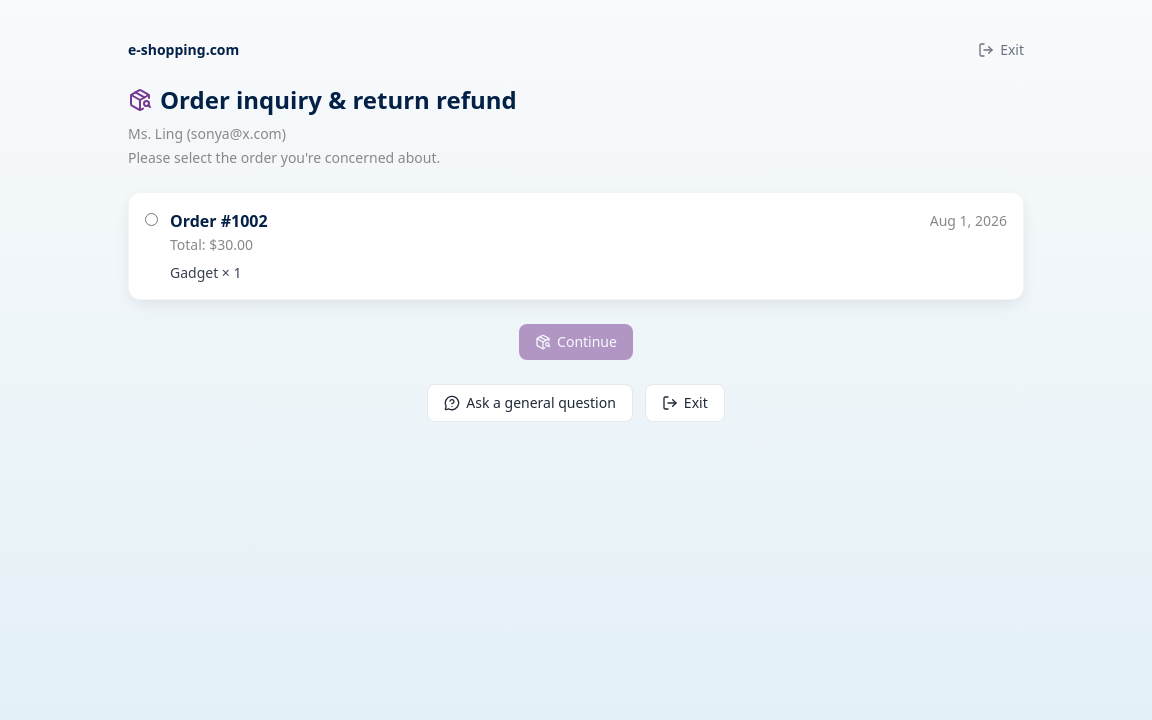
Test: OrderInquiryPage › does not advance to the detail screen when target_order is null
Expected: the text "Order #1002" is shown, [170,209,268,233]
Click the radio button at (152, 220), box [145,213,158,226]
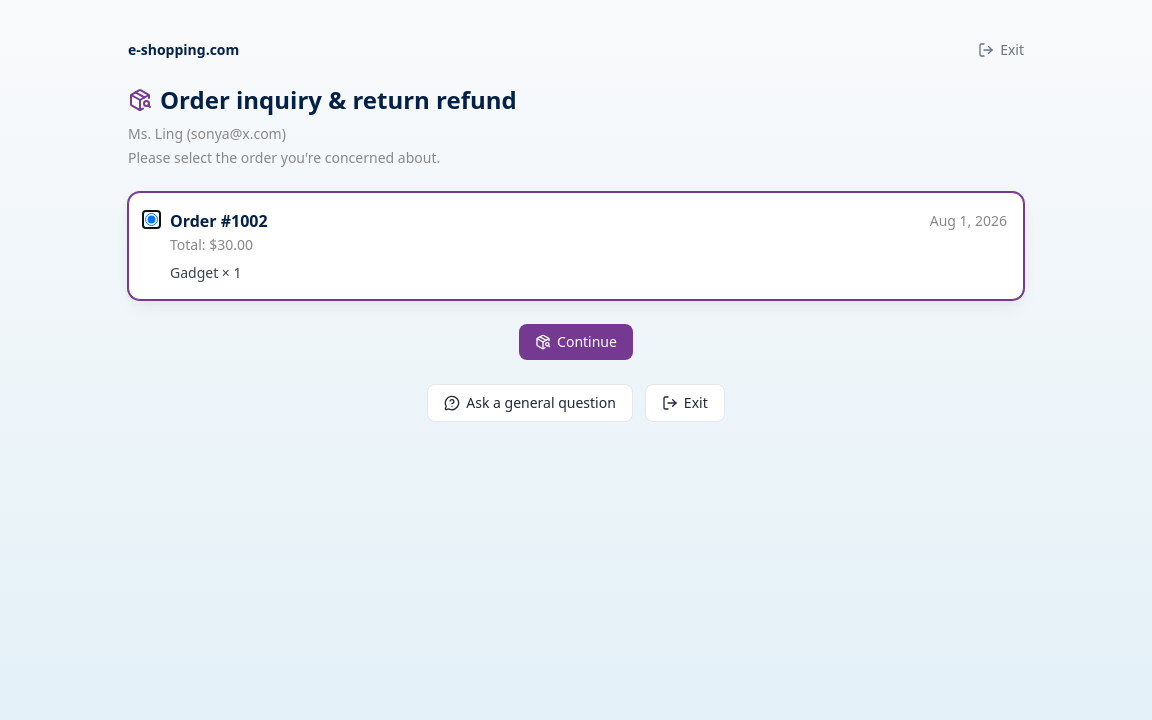
Click the button "Continue" at (576, 342), box [519,324,633,360]
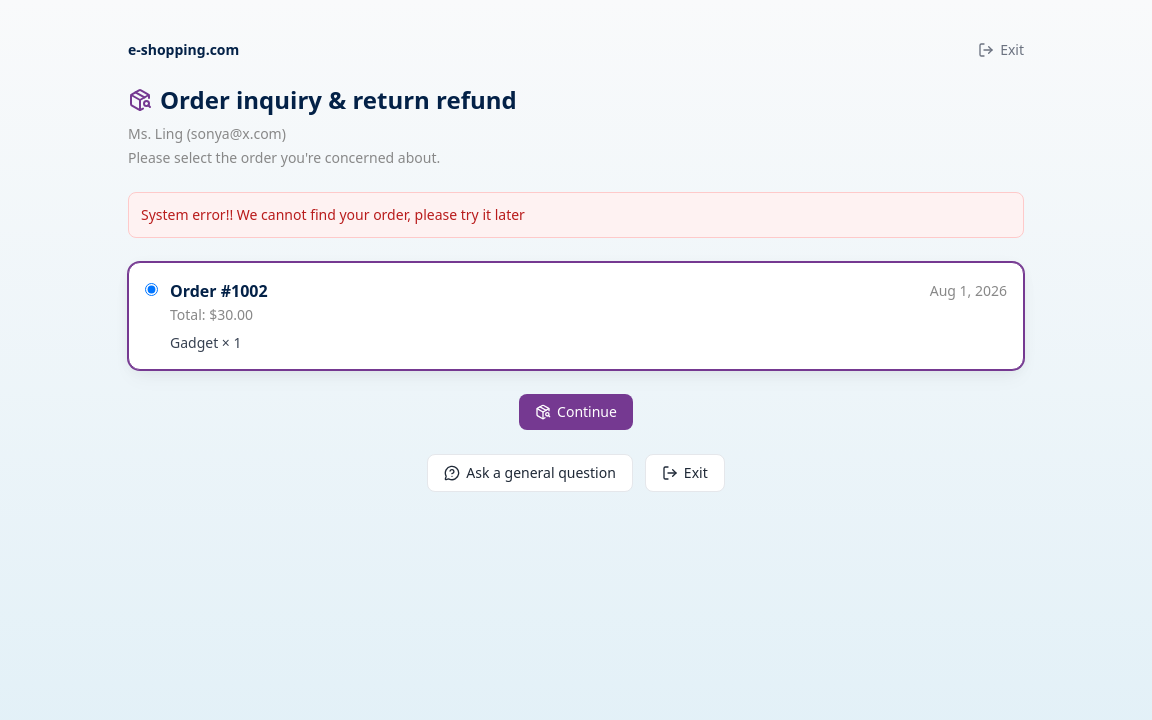
Expected: the radio button is shown, [145,283,158,296]
Now the text "System error!! We cannot find your order, please try it later" is shown, box [128,192,1024,238]
